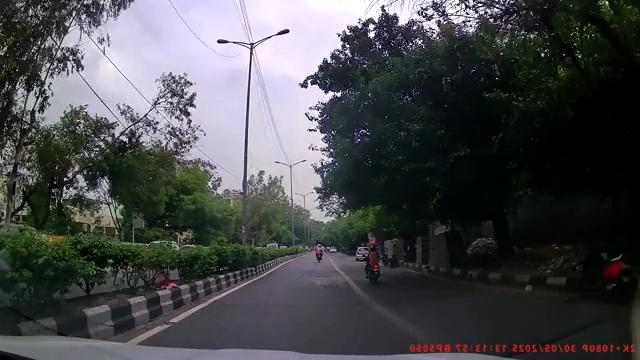motorcycle_with_helmet: (363, 244, 384, 285)
